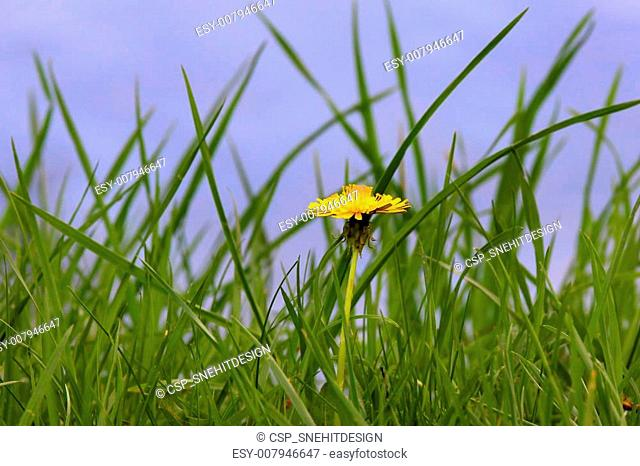dandelion: (313, 185, 409, 229)
